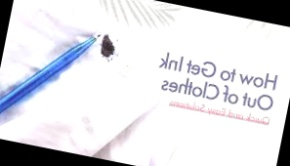ink: (99, 35, 117, 60)
